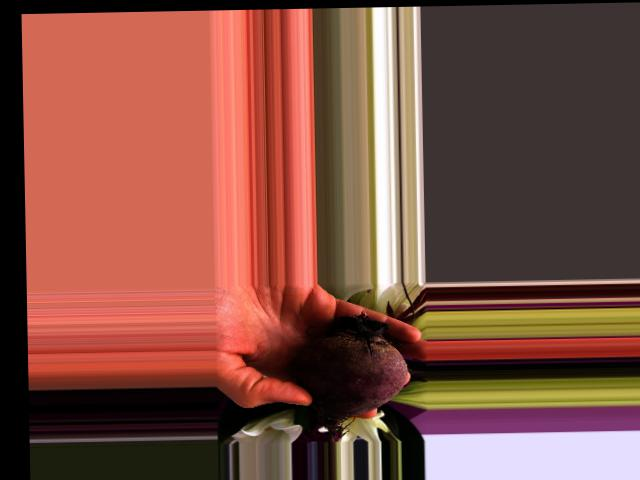beet: (293, 310, 410, 442)
